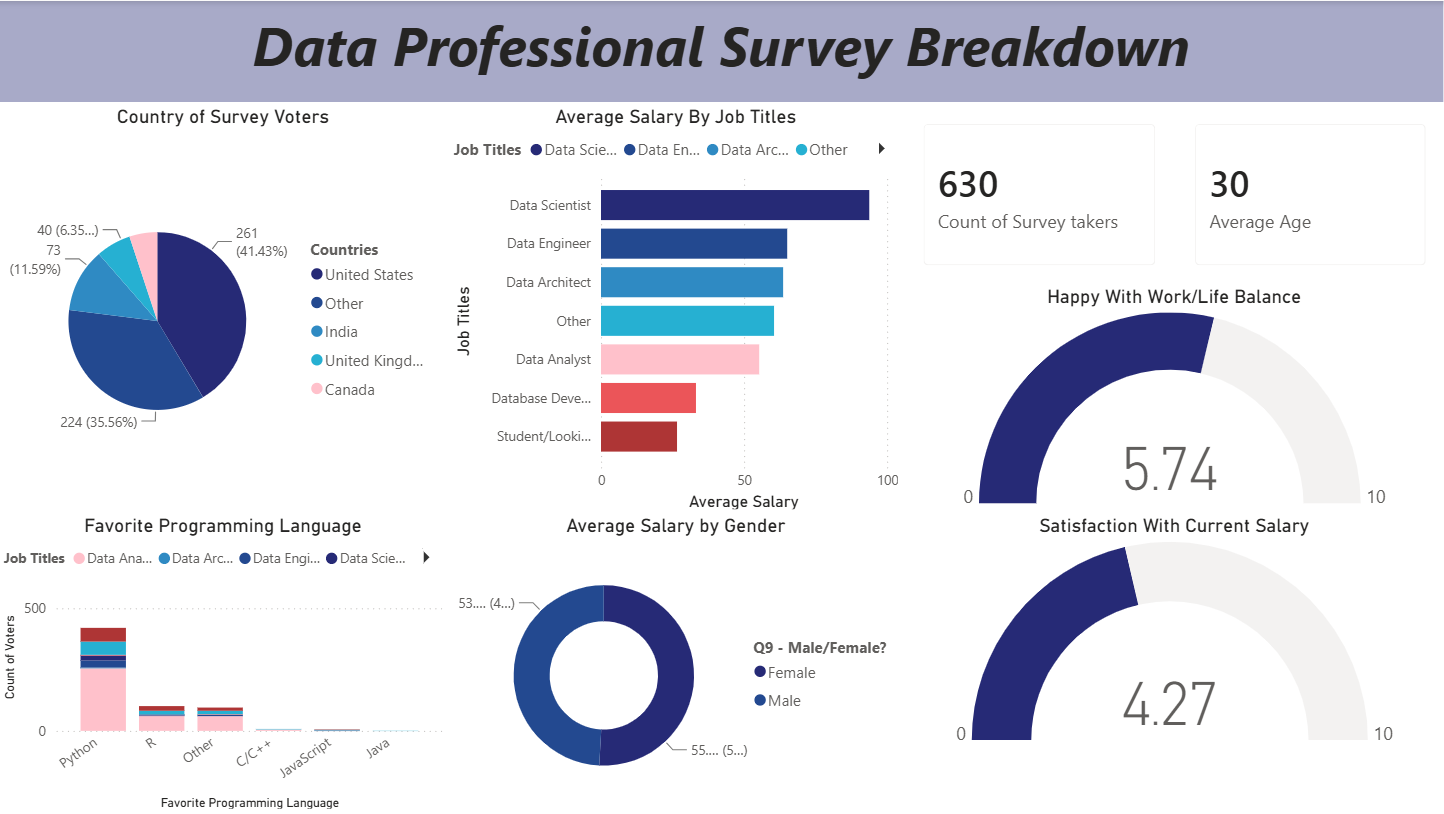

What the dashboard file says about the page in this screenshot:
{"tool":"powerbi","page":{"name":"Page 1","canvas":[1280,720],"ordinal":0},"visuals":[{"type":"textbox","box":[0,0,1279.5,89.6],"z":0},{"type":"cardVisual","fields":{"Data":["CountNonNull(Data Professional Survey.Unique ID)"]},"box":[801.3,91.2,239.9,159.9],"z":1000},{"type":"cardVisual","fields":{"Data":["Avg(Data Professional Survey.Q10 - Current Age)"]},"box":[1041.2,91.2,238.3,159.9],"z":2000},{"type":"barChart","title":"Average Salary By Job Titles","fields":{"Category":["Data Professional Survey.Q1 - Which Title Best Fits your Current Role?.1"],"Y":["Avg(Data Professional Survey.Average Salary)"],"Series":["Data Professional Survey.Q1 - Which Title Best Fits your Current Role?.1"]},"box":[398.2,91.2,403,363.1],"z":3000},{"type":"columnChart","title":"Favorite Programming Language","fields":{"Category":["Data Professional Survey.Q5 - Favorite Programming Language.1"],"Y":["CountNonNull(Data Professional Survey.Unique ID)"],"Series":["Data Professional Survey.Q1 - Which Title Best Fits your Current Role?.1"]},"box":[0,454.2,398.2,265.5],"z":4000},{"type":"gauge","title":"Happy With Work/Life Balance","fields":{"Y":["Avg(Data Professional Survey.Q6 - How Happy are you in your Current Position with the following? (Work/Life Balance))"],"MinValue":["Min(Data Professional Survey.Q6 - How Happy are you in your Current Position with the following? (Work/Life Balance))"],"MaxValue":["Max(Data Professional Survey.Q6 - How Happy are you in your Current Position with the following? (Work/Life Balance))"]},"box":[801.3,251.1,478.2,203.1],"z":5000},{"type":"gauge","title":"Satisfaction With Current Salary","fields":{"Y":["Avg(Data Professional Survey.Q6 - How Happy are you in your Current Position with the following? (Salary))"],"MinValue":["Min(Data Professional Survey.Q6 - How Happy are you in your Current Position with the following? (Salary))"],"MaxValue":["Max(Data Professional Survey.Q6 - How Happy are you in your Current Position with the following? (Salary))"]},"box":[801.3,454.2,478.2,209.5],"z":6000},{"type":"donutChart","title":"Average Salary by Gender","fields":{"Category":["Data Professional Survey.Q9 - Male/Female?"],"Y":["Avg(Data Professional Survey.Average Salary)"]},"box":[398.2,454.2,403,265.5],"z":7000},{"type":"pieChart","title":"Country of Survey Voters","fields":{"Category":["Data Professional Survey.Q11 - Which Country do you live in?.1"],"Y":["CountNonNull(Data Professional Survey.Q11 - Which Country do you live in?.1)"]},"box":[0,91.2,398.2,363.1],"z":8000}]}

Visuals, with their boxes in screenshot pixels (x1, y1, x2, y2), scaled from the page's 1280x720 canvas onto the 1444x814 screenshot:
textbox: [x1=0, y1=0, x2=1443, y2=101]
cardVisual - CountNonNull(Data Professional Survey.Unique ID): [x1=904, y1=103, x2=1175, y2=284]
cardVisual - Avg(Data Professional Survey.Q10 - Current Age): [x1=1175, y1=103, x2=1443, y2=284]
"Average Salary By Job Titles" barChart: [x1=449, y1=103, x2=904, y2=514]
"Favorite Programming Language" columnChart: [x1=0, y1=513, x2=449, y2=813]
"Happy With Work/Life Balance" gauge: [x1=904, y1=284, x2=1443, y2=513]
"Satisfaction With Current Salary" gauge: [x1=904, y1=513, x2=1443, y2=750]
"Average Salary by Gender" donutChart: [x1=449, y1=513, x2=904, y2=813]
"Country of Survey Voters" pieChart: [x1=0, y1=103, x2=449, y2=514]
